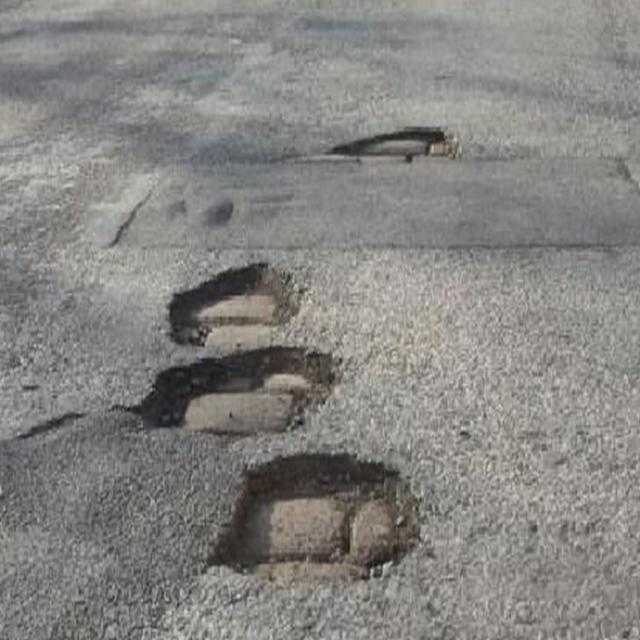Lubang: (222, 450, 420, 580), (133, 348, 346, 439), (160, 265, 306, 353), (329, 127, 461, 165)
